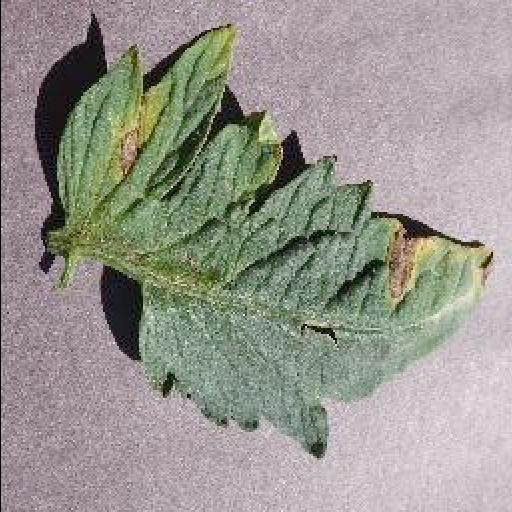Early Blight: (52, 23, 492, 460)
